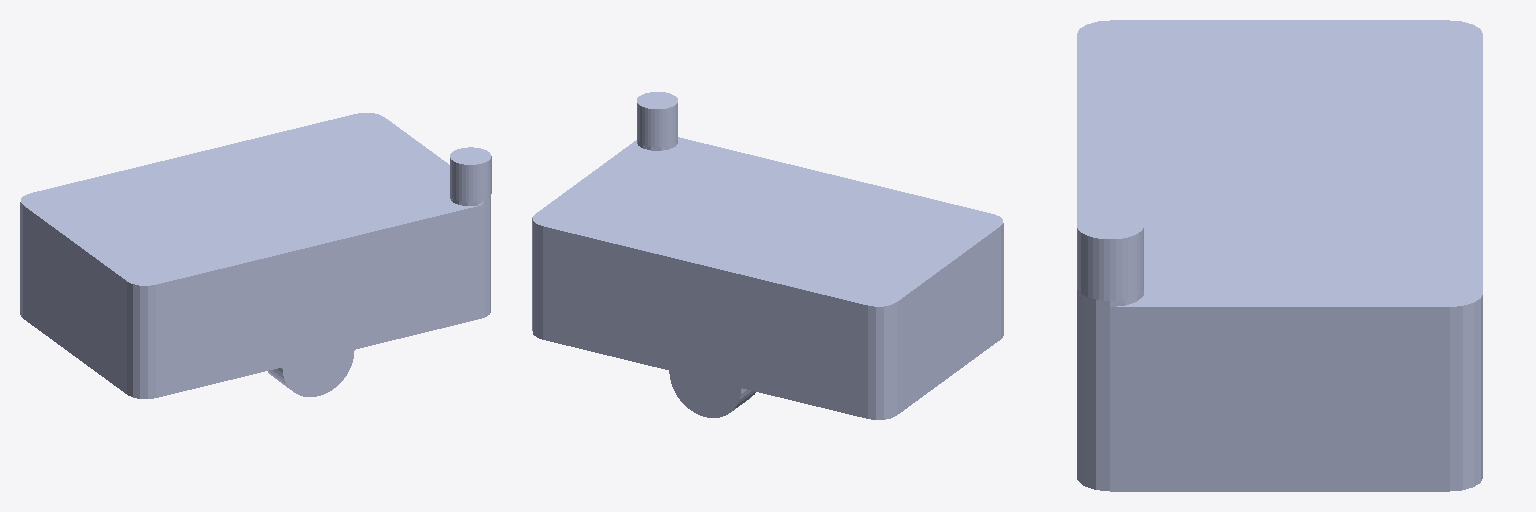
URDF robot description (my_agv):
<?xml version="1.0" encoding="utf-8"?>
<!-- This URDF was automatically created by SolidWorks to URDF Exporter! Originally created by [author] ([email redacted]) 
     Commit Version: 1.6.0-1-g15f4949  Build Version: 1.6.7594.29634
     For more information, please see http://wiki.ros.org/sw_urdf_exporter -->
<robot
  name="my_agv">
  
  <link name="base_footprint"/>

  <joint name="base_joint" type="fixed">
    <parent link="base_footprint"/>
    <child link="base_link"/>
    <origin xyz="0.0 0.0 0.1" rpy="0 0 0"/>
  </joint>
  
  <link
    name="base_link">
    <inertial>
      <origin
        xyz="0.000205357488381168 -0.000114087493545167 0.154772210158345"
        rpy="0 0 0" />
      <mass
        value="172.104351448156" />
      <inertia
        ixx="6.3929434908259"
        ixy="0.00883169715336637"
        ixz="-0.0053094883604806"
        iyy="15.5817880289174"
        iyz="0.00294971575582209"
        izz="19.4765350338119" />
    </inertial>
    <visual>
      <origin
        xyz="0 0 0"
        rpy="0 0 0" />
      <geometry>
        <mesh
          filename="package://my_agv/meshes/base_link.STL" />
      </geometry>
      <material
        name="">
        <color
          rgba="0.792156862745098 0.819607843137255 0.933333333333333 1" />
      </material>
    </visual>
    <collision>
      <origin
        xyz="0 0 0"
        rpy="0 0 0" />
      <geometry>
        <mesh
          filename="package://my_agv/meshes/base_link.STL" />
      </geometry>
    </collision>
  </link>
  <link
    name="wheel_right_link">
    <inertial>
      <origin
        xyz="-1.94908591625968E-18 -7.34092456632638E-16 0.0500000000000003"
        rpy="0 0 0" />
      <mass
        value="3.14159265358979" />
      <inertia
        ixx="0.010471975511966"
        ixy="7.08713124779409E-34"
        ixz="4.70197740328895E-35"
        iyy="0.010471975511966"
        iyz="-3.74856813205645E-18"
        izz="0.015707963267949" />
    </inertial>
    <visual>
      <origin
        xyz="0 0 0"
        rpy="0 0 0" />
      <geometry>
        <mesh
          filename="package://my_agv/meshes/wheel_right_link.STL" />
      </geometry>
      <material
        name="">
        <color
          rgba="0.792156862745098 0.819607843137255 0.933333333333333 1" />
      </material>
    </visual>
    <collision>
      <origin
        xyz="0 0 0"
        rpy="0 0 0" />
      <geometry>
        <mesh
          filename="package://my_agv/meshes/wheel_right_link.STL" />
      </geometry>
    </collision>
  </link>
  <joint
    name="wheel_right_joint"
    type="continuous">
    <origin
      xyz="0 -0.2 0"
      rpy="1.5708 0 0" />
    <parent
      link="base_link" />
    <child
      link="wheel_right_link" />
    <axis
      xyz="0 0 1" />
  </joint>
  <link
    name="wheel_left_link">
    <inertial>
      <origin
        xyz="-1.94908591625968E-18 7.34092456632637E-16 -0.0500000000000003"
        rpy="0 0 0" />
      <mass
        value="3.14159265358979" />
      <inertia
        ixx="0.010471975511966"
        ixy="5.32443059626186E-35"
        ixz="4.70197740328914E-35"
        iyy="0.010471975511966"
        iyz="-3.74856813205645E-18"
        izz="0.015707963267949" />
    </inertial>
    <visual>
      <origin
        xyz="0 0 0"
        rpy="0 0 0" />
      <geometry>
        <mesh
          filename="package://my_agv/meshes/wheel_left_link.STL" />
      </geometry>
      <material
        name="">
        <color
          rgba="0.792156862745098 0.819607843137255 0.933333333333333 1" />
      </material>
    </visual>
    <collision>
      <origin
        xyz="0 0 0"
        rpy="0 0 0" />
      <geometry>
        <mesh
          filename="package://my_agv/meshes/wheel_left_link.STL" />
      </geometry>
    </collision>
  </link>
  <joint
    name="wheel_left_joint"
    type="continuous">
    <origin
      xyz="0 0.2 0"
      rpy="1.5708 0 0" />
    <parent
      link="base_link" />
    <child
      link="wheel_left_link" />
    <axis
      xyz="0 0 1" />
  </joint>
  <link
    name="caster_front_link">
    <inertial>
      <origin
        xyz="0 0 0"
        rpy="0 0 0" />
      <mass
        value="4.18879020478639" />
      <inertia
        ixx="0.0167551608191456"
        ixy="0"
        ixz="0"
        iyy="0.0167551608191456"
        iyz="0"
        izz="0.0167551608191456" />
    </inertial>
    <visual>
      <origin
        xyz="0 0 0"
        rpy="0 0 0" />
      <geometry>
        <mesh
          filename="package://my_agv/meshes/caster_front_link.STL" />
      </geometry>
      <material
        name="">
        <color
          rgba="0.792156862745098 0.819607843137255 0.933333333333333 1" />
      </material>
    </visual>
    <collision>
      <origin
        xyz="0 0 0"
        rpy="0 0 0" />
      <geometry>
        <mesh
          filename="package://my_agv/meshes/caster_front_link.STL" />
      </geometry>
    </collision>
  </link>
  <joint
    name="caster_front_joint"
    type="fixed">
    <origin
      xyz="0.35 0 0"
      rpy="0 0 0" />
    <parent
      link="base_link" />
    <child
      link="caster_front_link" />
    <axis
      xyz="0 0 1" />
  </joint>
  <link
    name="caster_rear_link">
    <inertial>
      <origin
        xyz="0 0 0"
        rpy="0 0 0" />
      <mass
        value="4.18879020478639" />
      <inertia
        ixx="0.0167551608191456"
        ixy="0"
        ixz="0"
        iyy="0.0167551608191456"
        iyz="0"
        izz="0.0167551608191456" />
    </inertial>
    <visual>
      <origin
        xyz="0 0 0"
        rpy="0 0 0" />
      <geometry>
        <mesh
          filename="package://my_agv/meshes/caster_rear_link.STL" />
      </geometry>
      <material
        name="">
        <color
          rgba="0.792156862745098 0.819607843137255 0.933333333333333 1" />
      </material>
    </visual>
    <collision>
      <origin
        xyz="0 0 0"
        rpy="0 0 0" />
      <geometry>
        <mesh
          filename="package://my_agv/meshes/caster_rear_link.STL" />
      </geometry>
    </collision>
  </link>
  <joint
    name="caster_rear_joint"
    type="fixed">
    <origin
      xyz="-0.35 0 0"
      rpy="0 0 0" />
    <parent
      link="base_link" />
    <child
      link="caster_rear_link" />
    <axis
      xyz="0 0 1" />
  </joint>
  <link
    name="base_scan">
    <inertial>
      <origin
        xyz="-5.55111512312578E-17 -5.55111512312578E-17 0.05"
        rpy="0 0 0" />
      <mass
        value="0.785398163397448" />
      <inertia
        ixx="0.00114537232162128"
        ixy="3.74939945665464E-36"
        ixz="-4.70197740328915E-36"
        iyy="0.00114537232162128"
        iyz="-3.7943922501345E-36"
        izz="0.00098174770424681" />
    </inertial>
    <visual>
      <origin
        xyz="0 0 0"
        rpy="0 0 0" />
      <geometry>
        <mesh
          filename="package://my_agv/meshes/base_scan.STL" />
      </geometry>
      <material
        name="">
        <color
          rgba="0.792156862745098 0.819607843137255 0.933333333333333 1" />
      </material>
    </visual>
    <collision>
      <origin
        xyz="0 0 0"
        rpy="0 0 0" />
      <geometry>
        <mesh
          filename="package://my_agv/meshes/base_scan.STL" />
      </geometry>
    </collision>
  </link>
  <joint
    name="base_scan_joint"
    type="fixed">
    <origin
      xyz="0.45 -0.25 0.31"
      rpy="0 0 0" />
    <parent
      link="base_link" />
    <child
      link="base_scan" />
    <axis
      xyz="0 0 0" />
  </joint>
</robot>

--- What the picture shows (computed from the rendered views, not written in the file) ---
3 views of the same robot in one strip: view 1: azimuth 30°, elevation 25°; view 2: azimuth 150°, elevation 25°; view 3: azimuth 270°, elevation 25° (orthographic).
Robot: my_agv — 7 links, 6 joints (2 continuous, 4 fixed); root link base_footprint; default pose: all joints at 0.
Links seen in each view (by area): view 1: base_link, wheel_right_link, base_scan; view 2: base_link, wheel_left_link, base_scan; view 3: base_link, base_scan.
Boxes of the visible links, bbox=[...] form: base_link: bbox=[20, 113, 490, 398]; wheel_right_link: bbox=[268, 320, 354, 396]; base_scan: bbox=[450, 147, 491, 202]; base_link: bbox=[532, 137, 1003, 419]; wheel_left_link: bbox=[669, 341, 755, 417]; base_scan: bbox=[637, 92, 677, 146]; base_link: bbox=[1077, 20, 1482, 491]; base_scan: bbox=[1077, 211, 1143, 300].
Size in the robot's own frame: 1 by 0.6 by 0.5098 metres.
5 mesh visuals loaded from 6 distinct referenced files (5 binary STL); not drawn: 1 (reference not matched to a file when rendering).